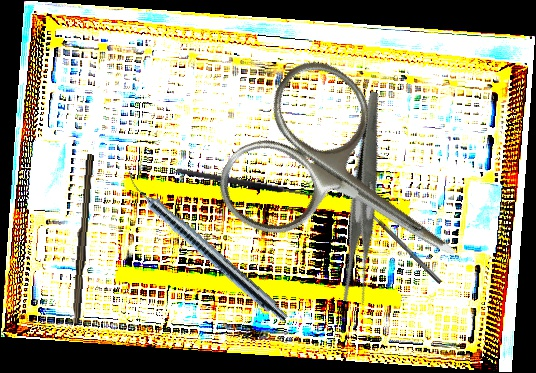Dressing Forceps: (289, 90, 444, 309)
Handpiece: (117, 168, 294, 326)
Hook Surgical: (175, 160, 330, 202)
Iris Scissors: (204, 47, 504, 330)
Scalpel Handle: (70, 153, 94, 325)
Surgical Spoon: (350, 192, 443, 285)
